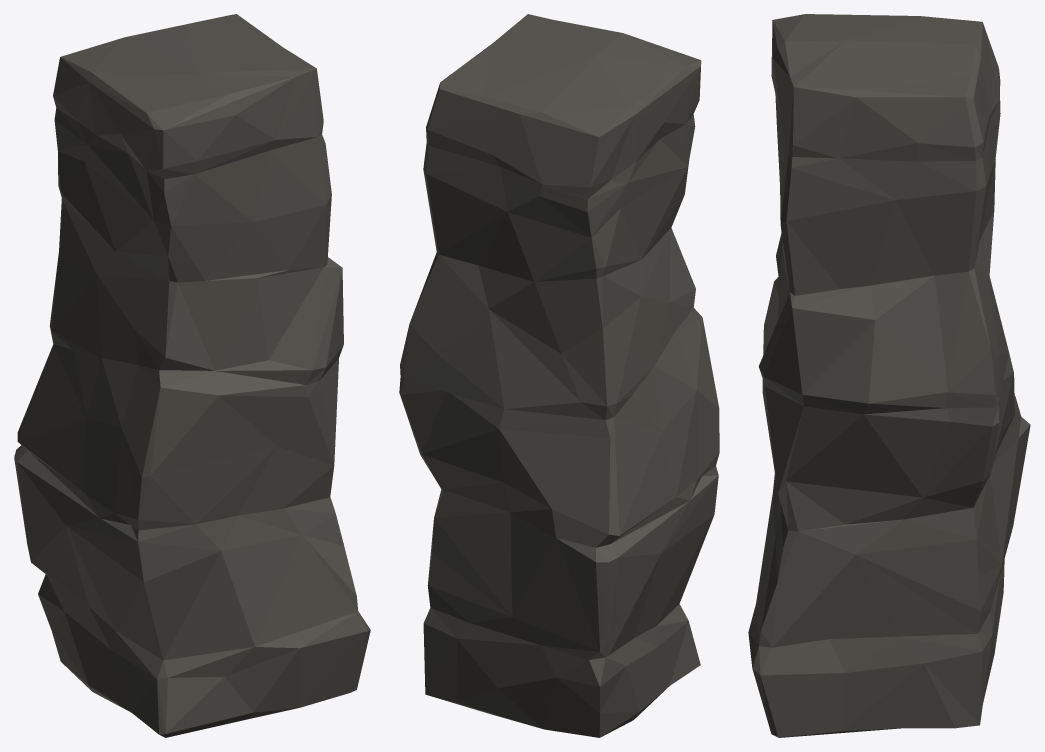
The model's file is Rock_PillarPile.fbx.
3 renders of one model, left to right at view 1: azimuth 30°, elevation 25°; view 2: azimuth 150°, elevation 25°; view 3: azimuth 270°, elevation 25°, orthographic. The views are drawn at different scales.
Visible parts, largest first — view 1: Rock_PilePillar; view 2: Rock_PilePillar; view 3: Rock_PilePillar.
Part boxes in pixels (left/top/right/bottom): Rock_PilePillar: left=14, top=14, right=370, bottom=737; Rock_PilePillar: left=399, top=14, right=719, bottom=737; Rock_PilePillar: left=748, top=14, right=1030, bottom=737.
Size of the model in its own units: 272 by 664 by 265.
